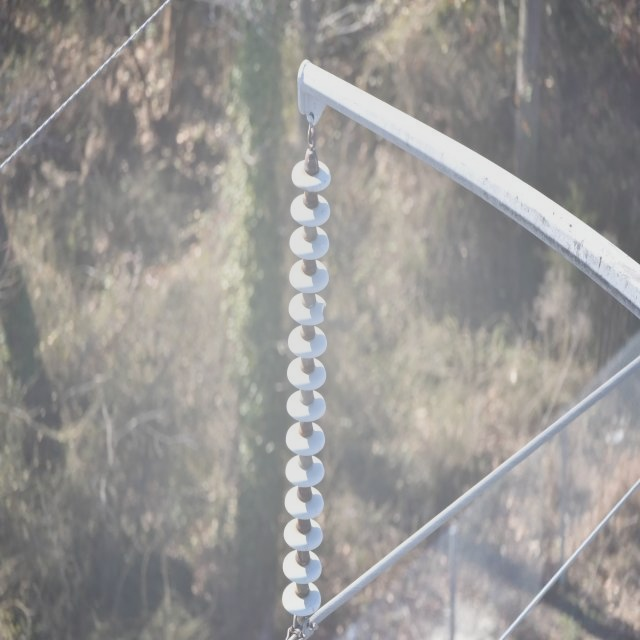broken: (322, 298, 327, 322)
insulator: (280, 157, 331, 613)
